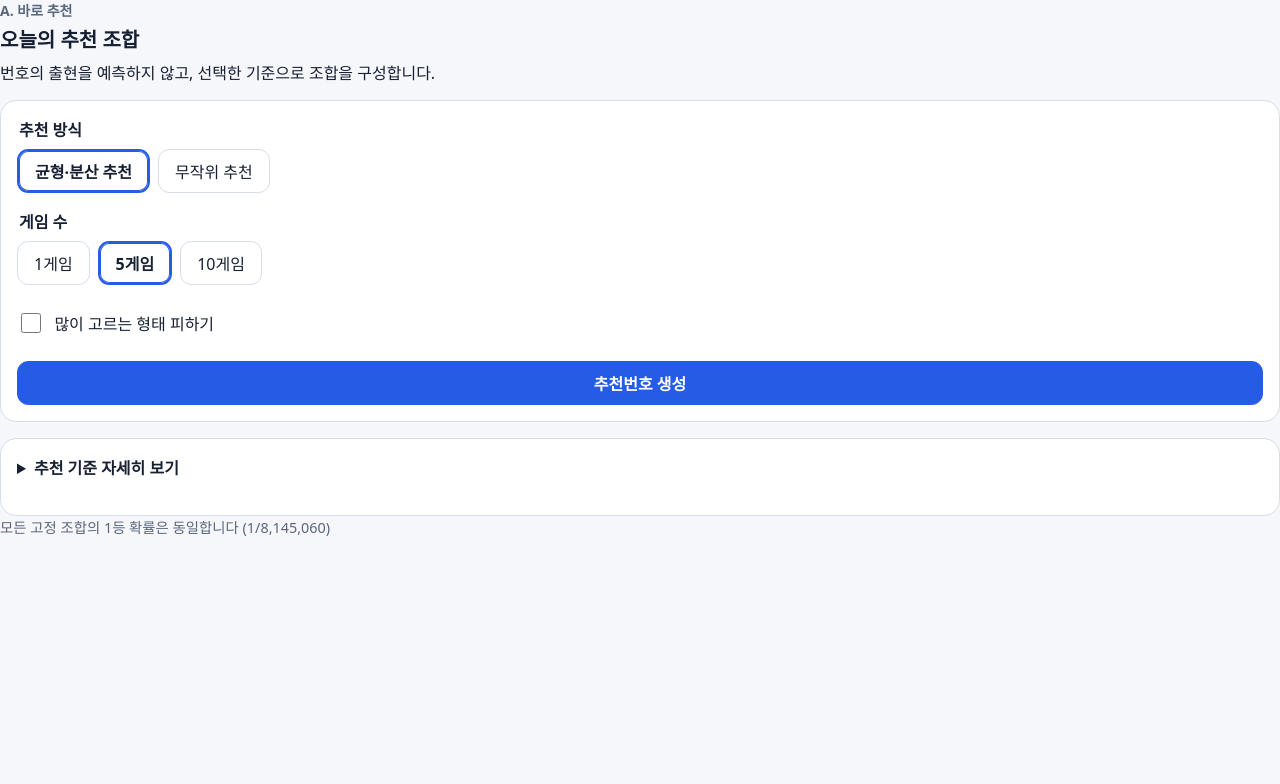
Test: uses random mode when selected
Click the button "무작위 추천" at (214, 171), box top-left (158, 149), bottom-right (270, 193)
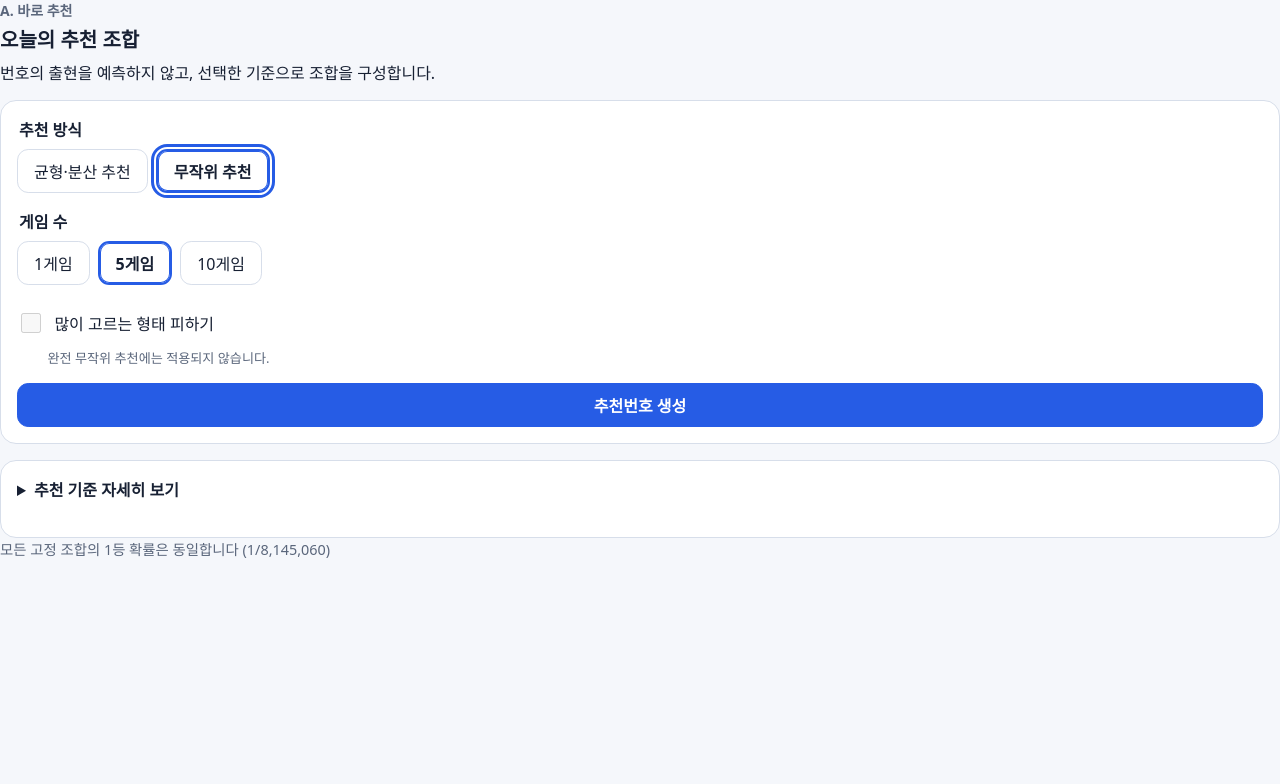
Click the button "추천번호 생성" at (640, 405), box top-left (17, 383), bottom-right (1263, 427)
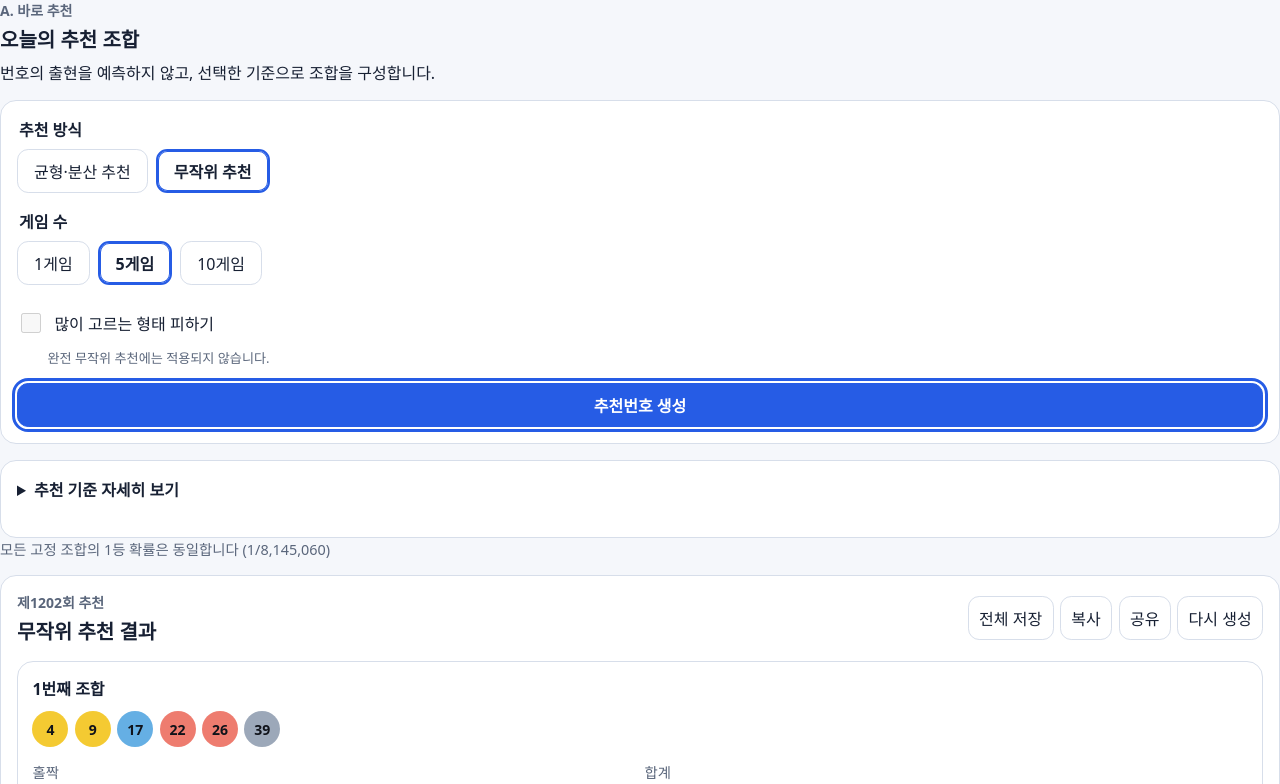
Now the heading "무작위 추천 결과" is shown, box top-left (17, 616), bottom-right (156, 645)
Now the number of list items named "추천 조합" is 5
